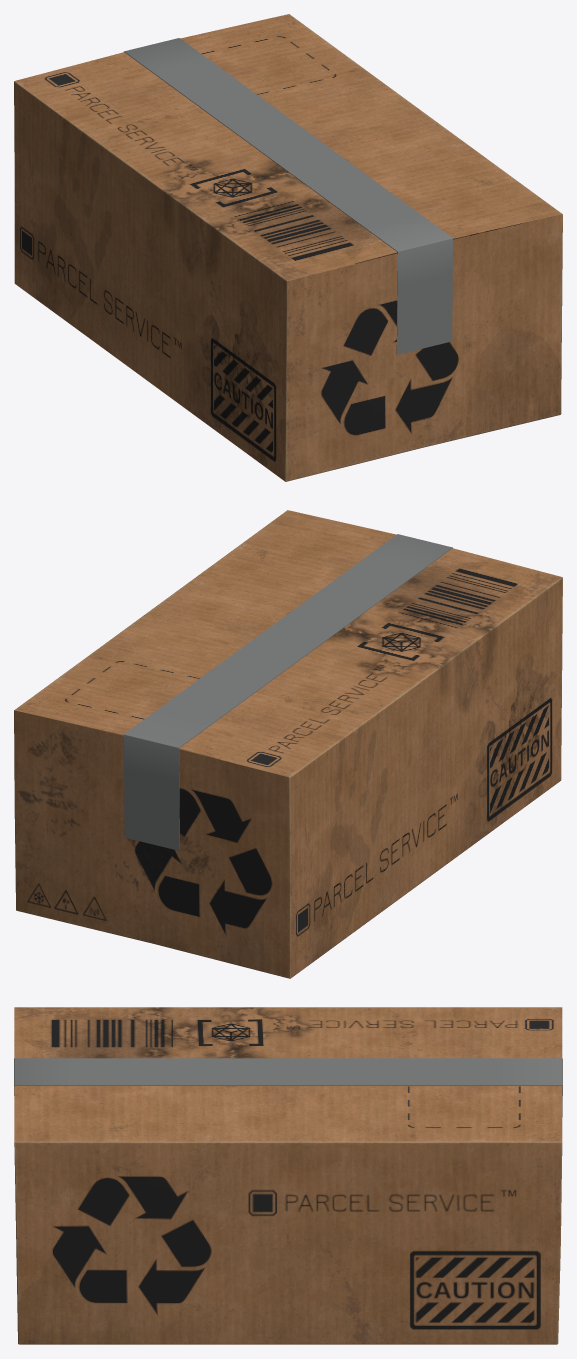
File: package1.glb
3 views of the same model, one above another, from view 1: azimuth 30°, elevation 25°; view 2: azimuth 150°, elevation 25°; view 3: azimuth 270°, elevation 25° (orthographic).
Parts seen in each view (by area): view 1: box_0, tape_1; view 2: box_0, tape_1; view 3: box_0, tape_1.
Part boxes in pixels (box(x1,y1,x2,y2)): box_0: box(14, 14, 562, 481); tape_1: box(124, 38, 452, 354); box_0: box(14, 510, 562, 978); tape_1: box(123, 534, 452, 850); box_0: box(14, 1007, 562, 1344); tape_1: box(14, 1058, 562, 1116).
Bounding box in the file's own units: 0.3333 × 0.2368 × 0.5731.
Materials: 2 (2 with a texture image).
